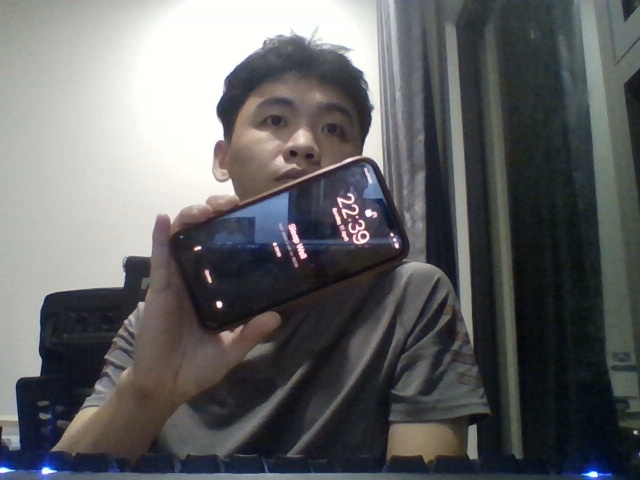mobile_phone: (170, 154, 412, 334)
